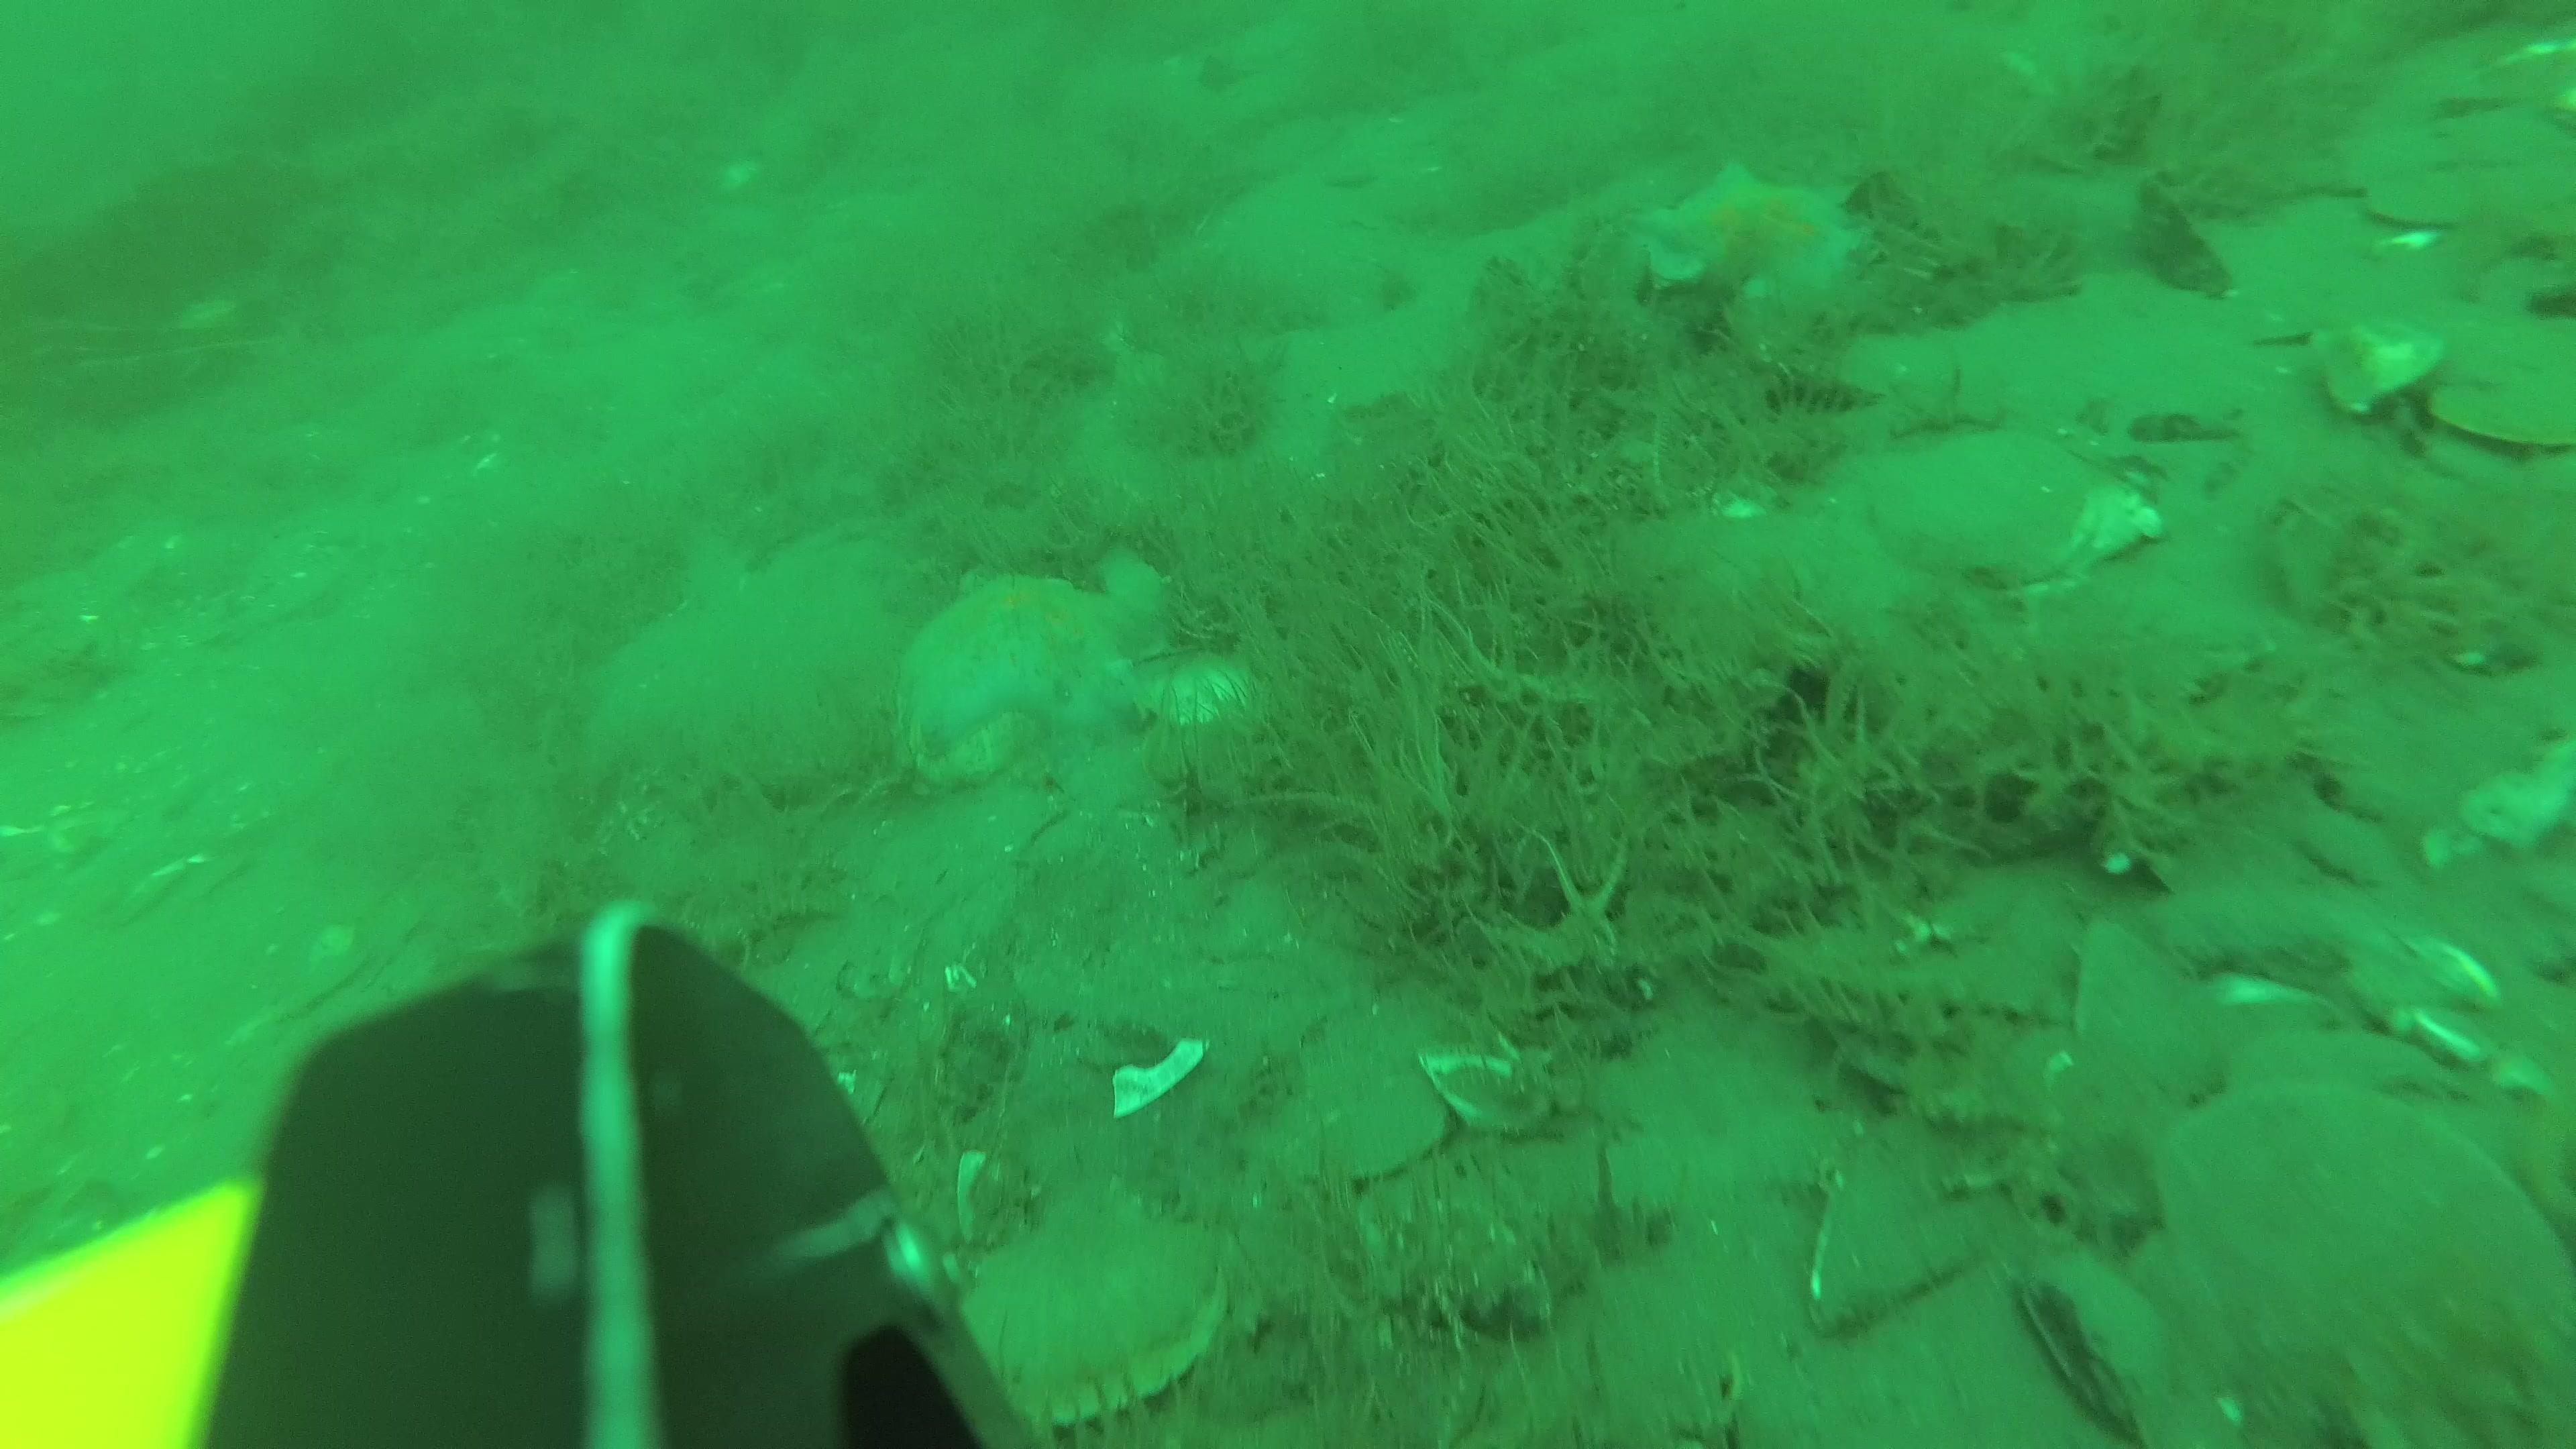scallop: (2146, 1093, 2574, 1442), (913, 1203, 1219, 1412), (1868, 426, 2151, 593), (2431, 310, 2576, 448)
starfish: (886, 545, 1185, 757), (1640, 161, 1881, 306)
